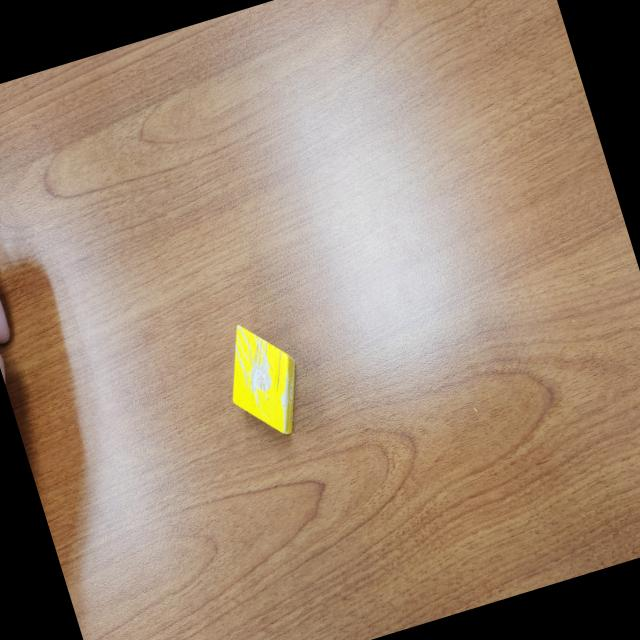broken: (212, 312, 316, 449)
